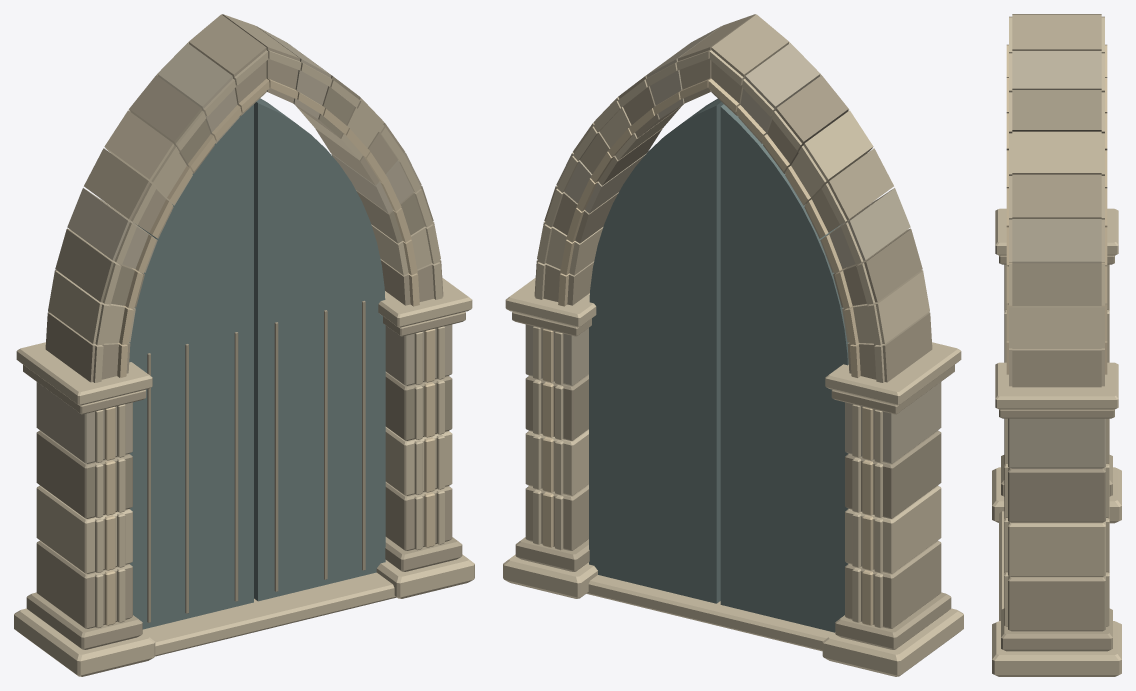
Rendered from Gate_Sealed_4m.fbx.
3 renders of one model, left to right at view 1: azimuth 30°, elevation 25°; view 2: azimuth 150°, elevation 25°; view 3: azimuth 270°, elevation 25°, orthographic.
Visible parts, largest first — view 1: Gate_Sealed_4m; view 2: Gate_Sealed_4m; view 3: Gate_Sealed_4m.
Boxes of the visible parts, box(x1,y1,x2,y2) form: Gate_Sealed_4m: box(14, 14, 474, 676); Gate_Sealed_4m: box(503, 14, 963, 676); Gate_Sealed_4m: box(992, 14, 1121, 676).
Size of the model in its own units: 3.56 by 4.93 by 1.02.
